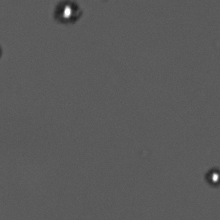Living Cell: (53, 1, 82, 25), (204, 166, 219, 187)
